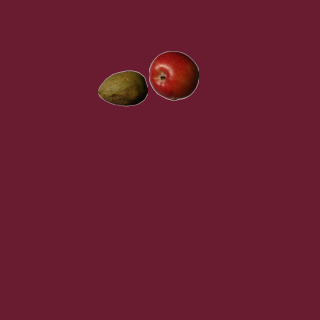Apple Braeburn: (148, 50, 198, 100)
Papaya: (97, 63, 147, 113)
